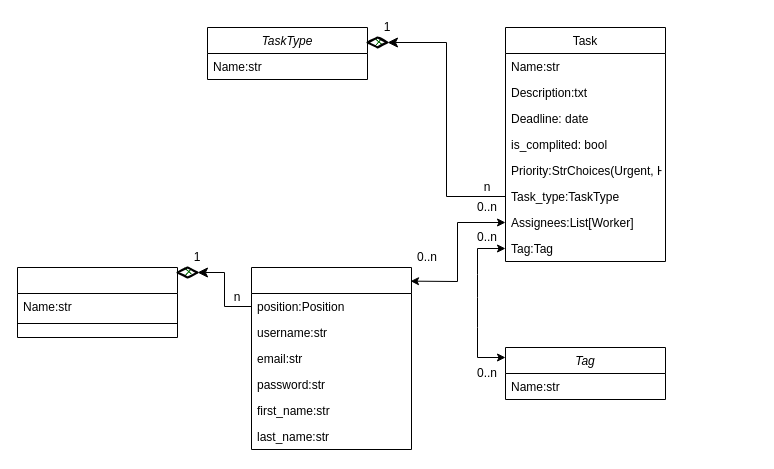
Some shapes in this 774 by 469 pixel diagram are drawn without their labels. The box of each missing label's shape, as (x1, y1, x2, y2) in pixels:
Position: (16, 266, 178, 338)
Worker(AbstractUser): (250, 266, 412, 450)
